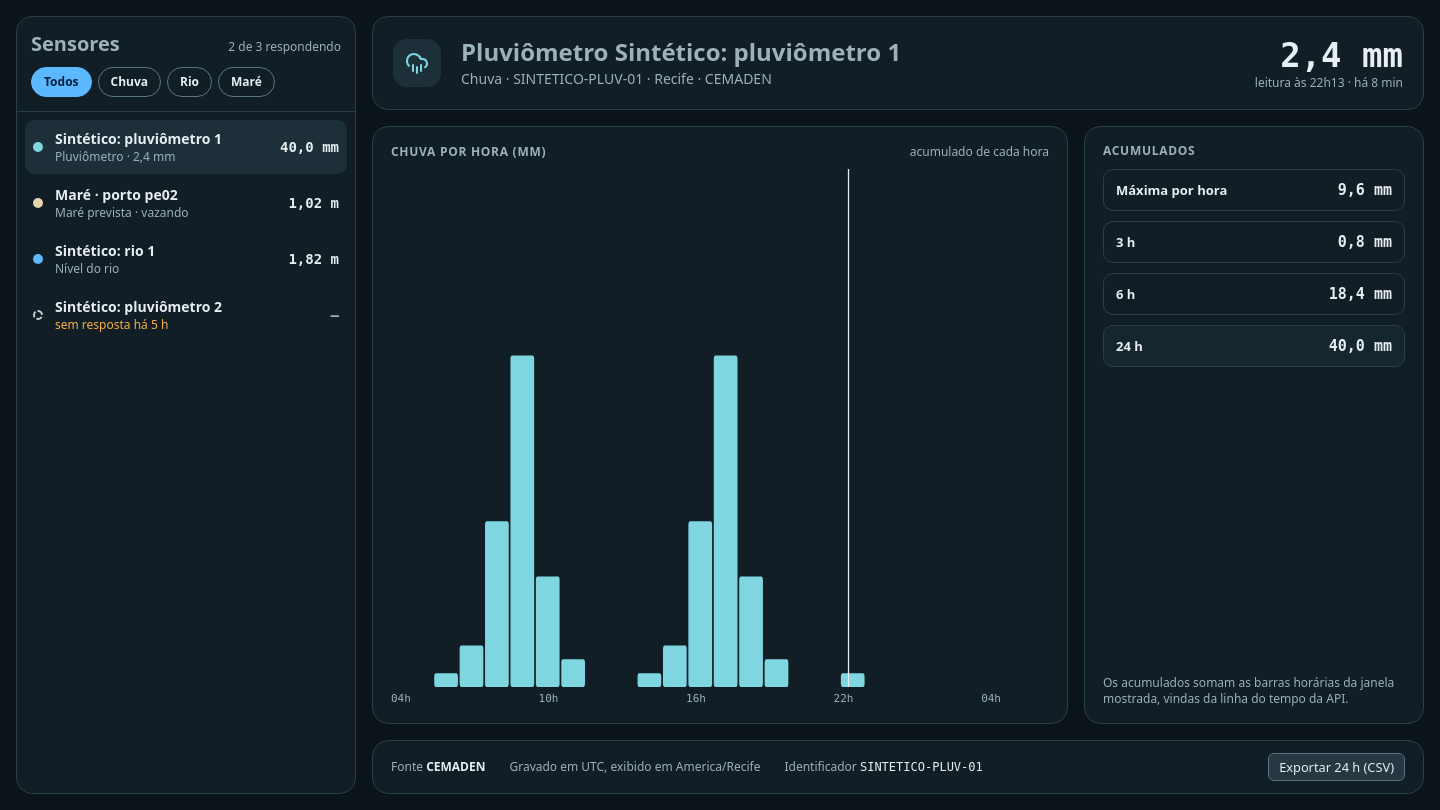
Test case: SensorsPage › filtra por tipo na lista
The width and height of the screenshot is (1440, 810).
Expected: the text "Sintético: rio 1" is shown, [55,241,155,260]
Click the radio button labelled "Rio": (190, 82) [167,67,212,97]
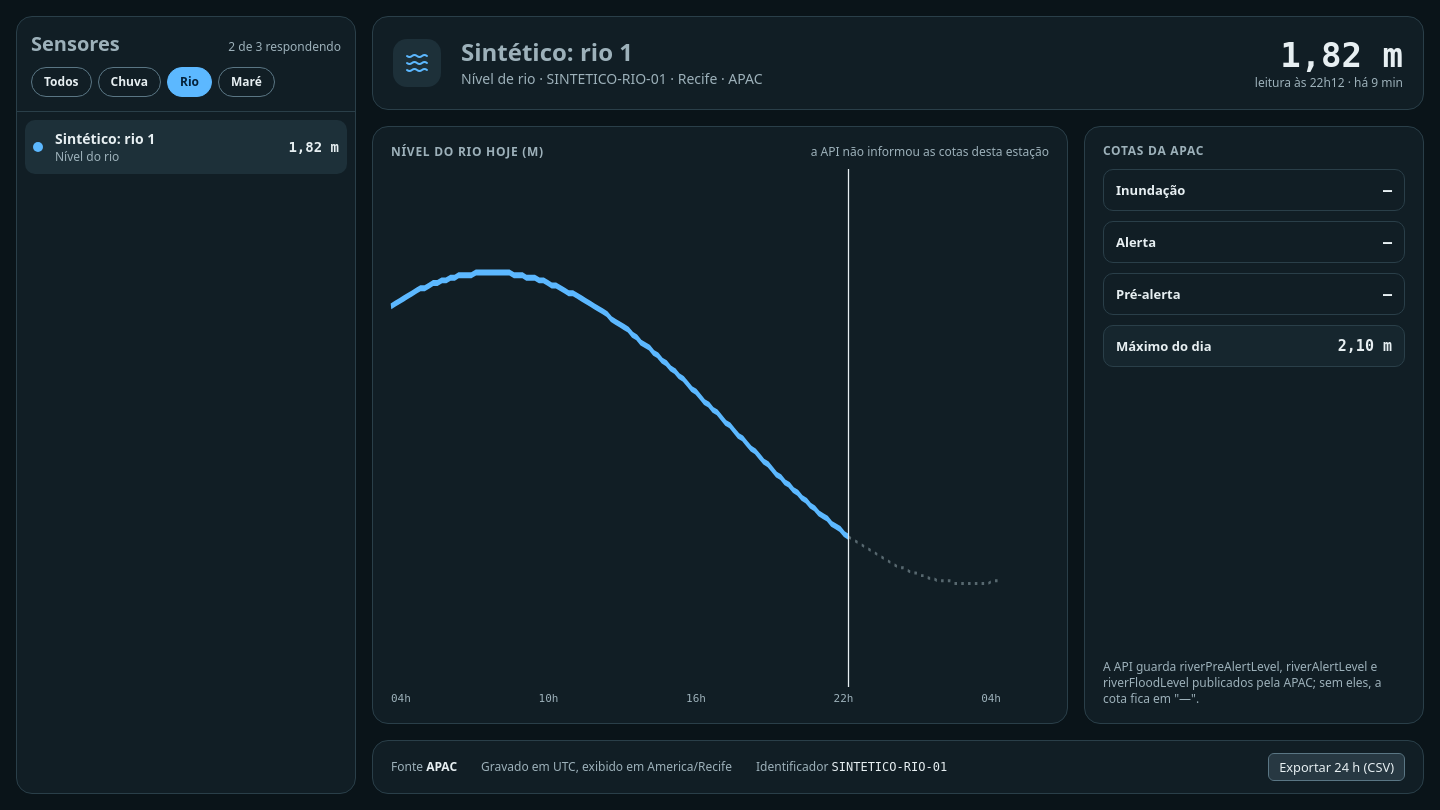
Expected: the text "Sintético: rio 1" is shown, [55,129,155,148]
Expected: the button "Sintético: pluviômetro 1" is gone
